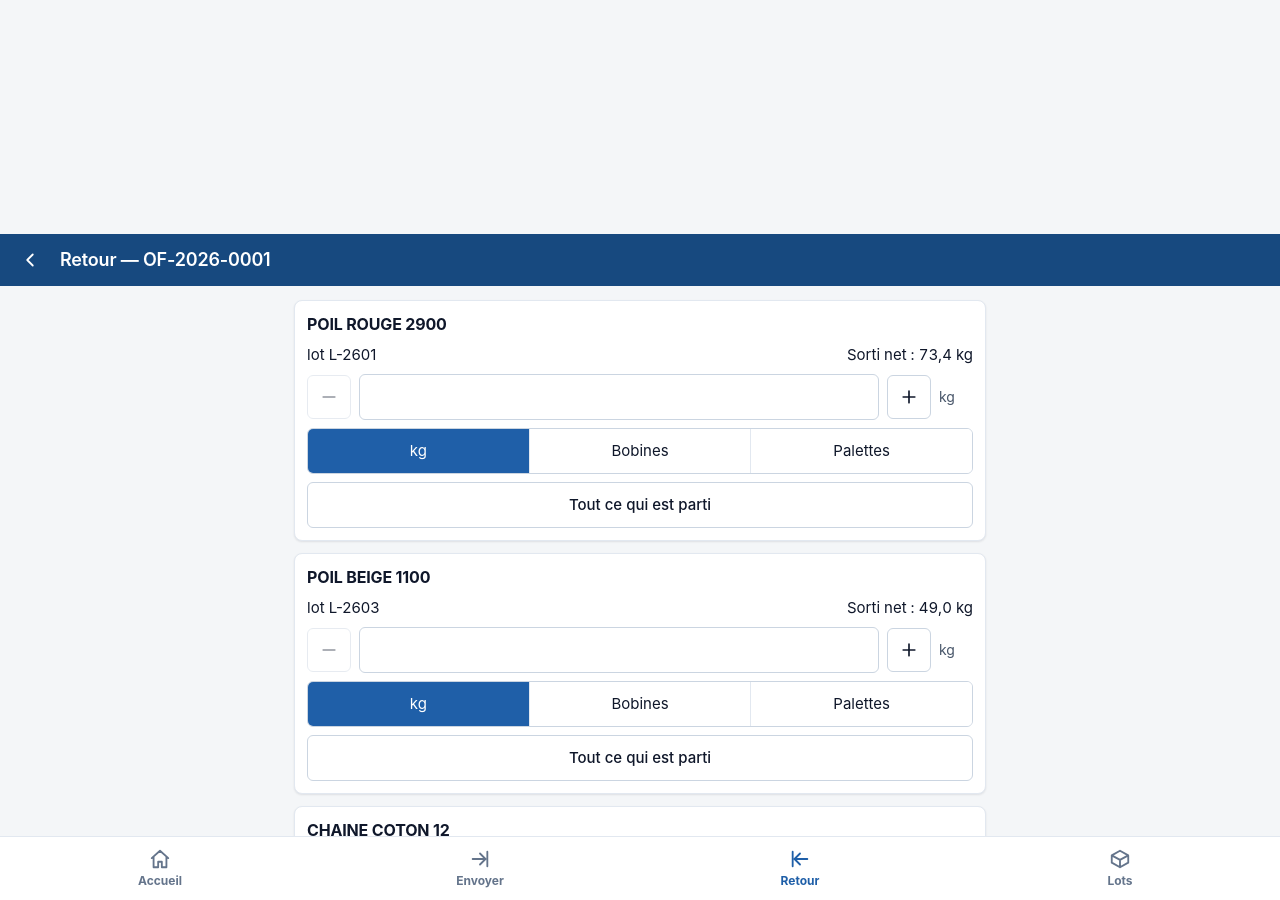
Retour des machines › « Tout ce qui est parti » en bobines arrondit vers le bas ; un seul envoi, validé
The width and height of the screenshot is (1280, 900).
(page scrolled)
Expected: the heading "Retour — OF-2026-0001" is shown, [60,247,270,273]
Expected: the text "Sorti net : 73,4 kg" is shown, [847,344,973,366]
Click the radio button labelled "Bobines" below "lot L-2601".
click(641, 451)  # box [530,429,751,473]
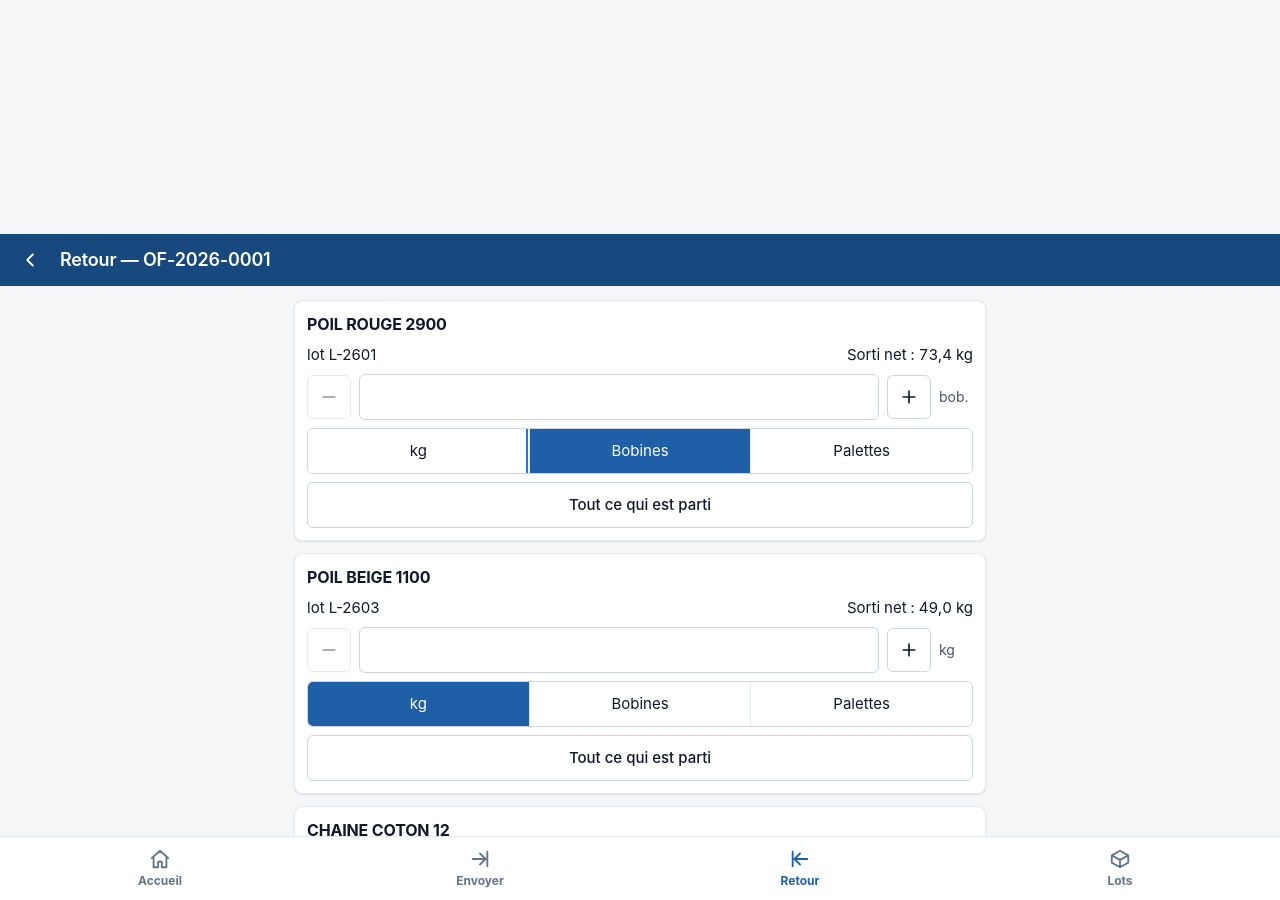
Click the button "Tout ce qui est parti" below "bob.".
click(640, 505)  # box [307,482,973,528]
(page scrolled)
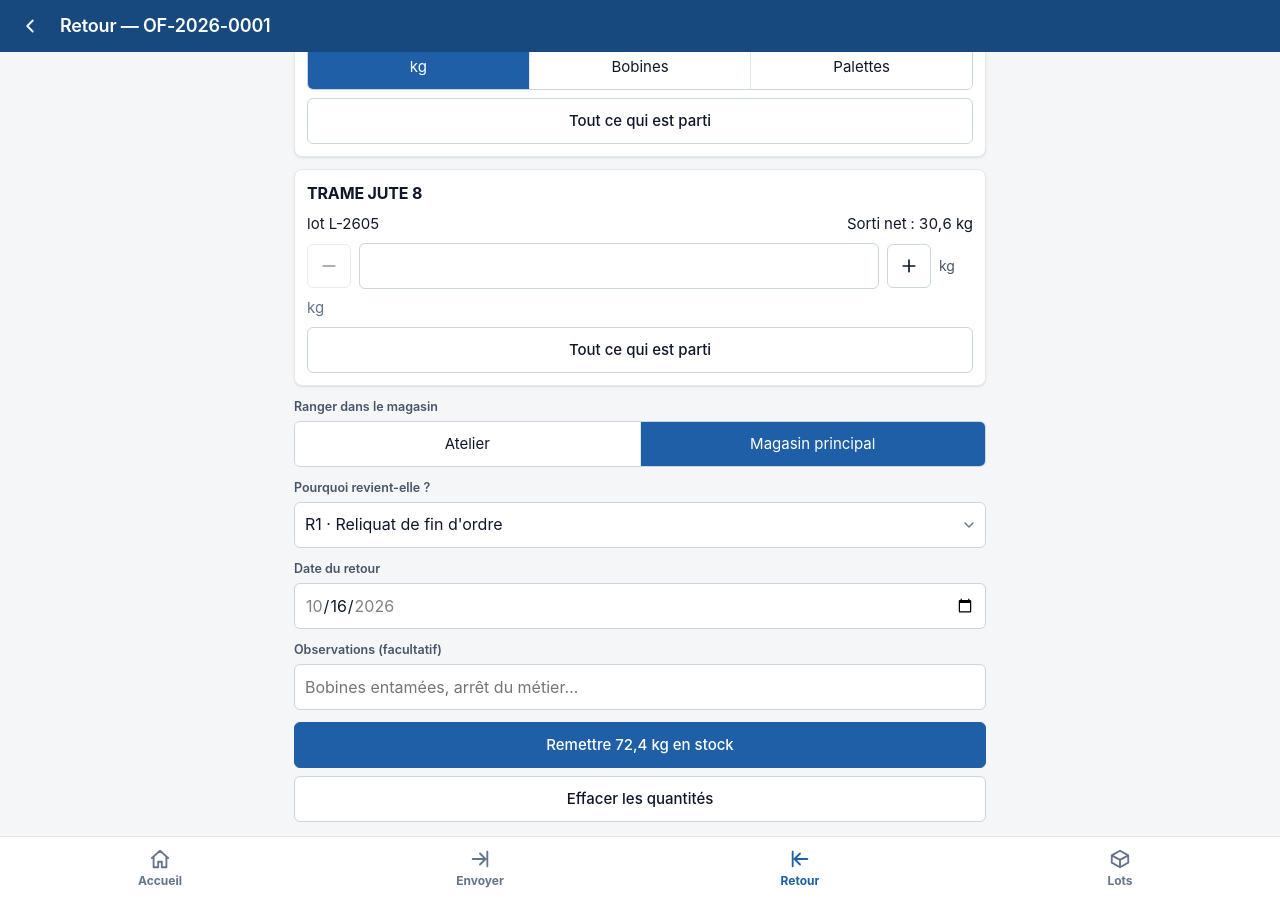
Click the button "Remettre 72,4 kg en stock".
click(640, 745)  # box [294,722,986,768]
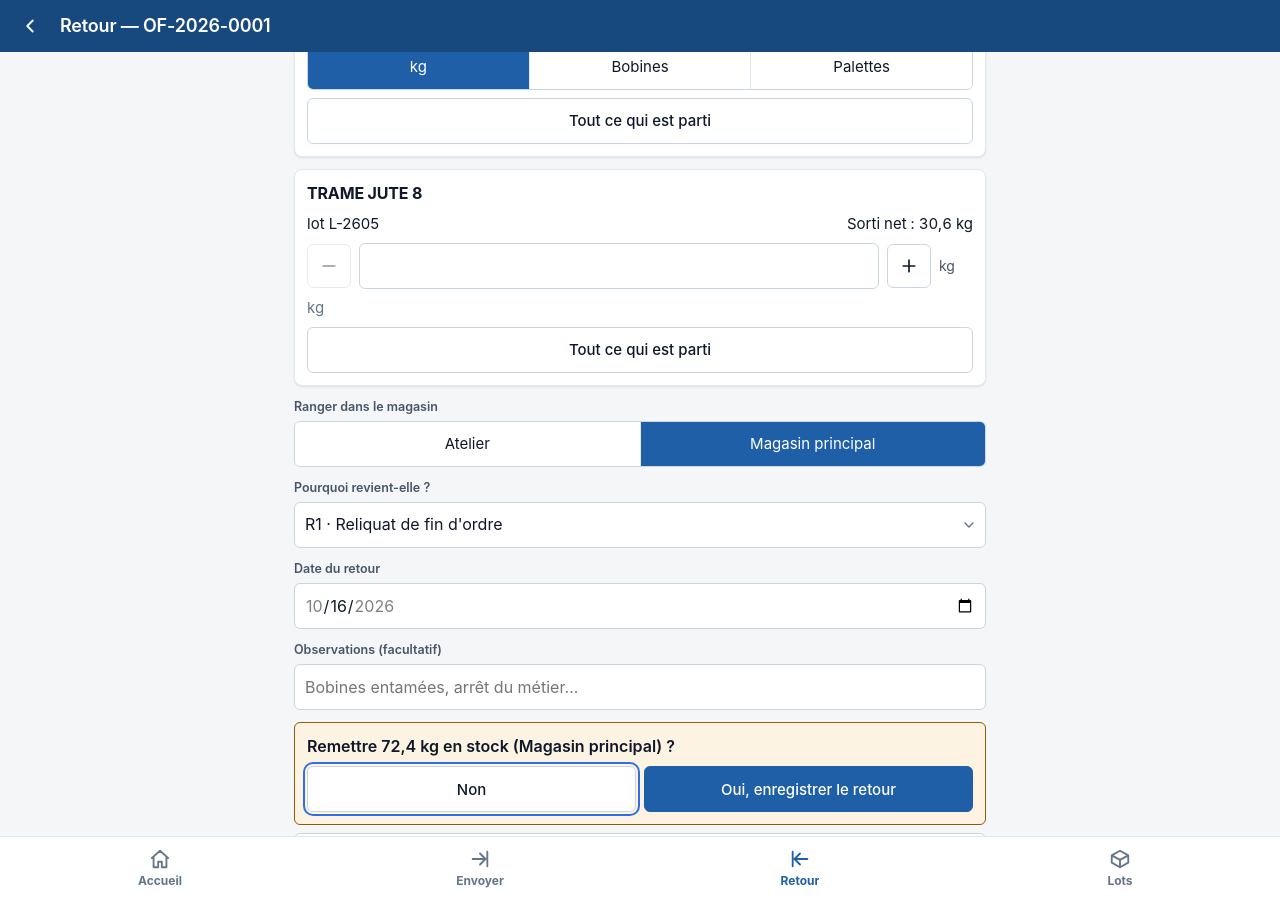
Click the button "Oui, enregistrer le retour".
click(808, 790)  # box [644,766,973,812]
(page scrolled)
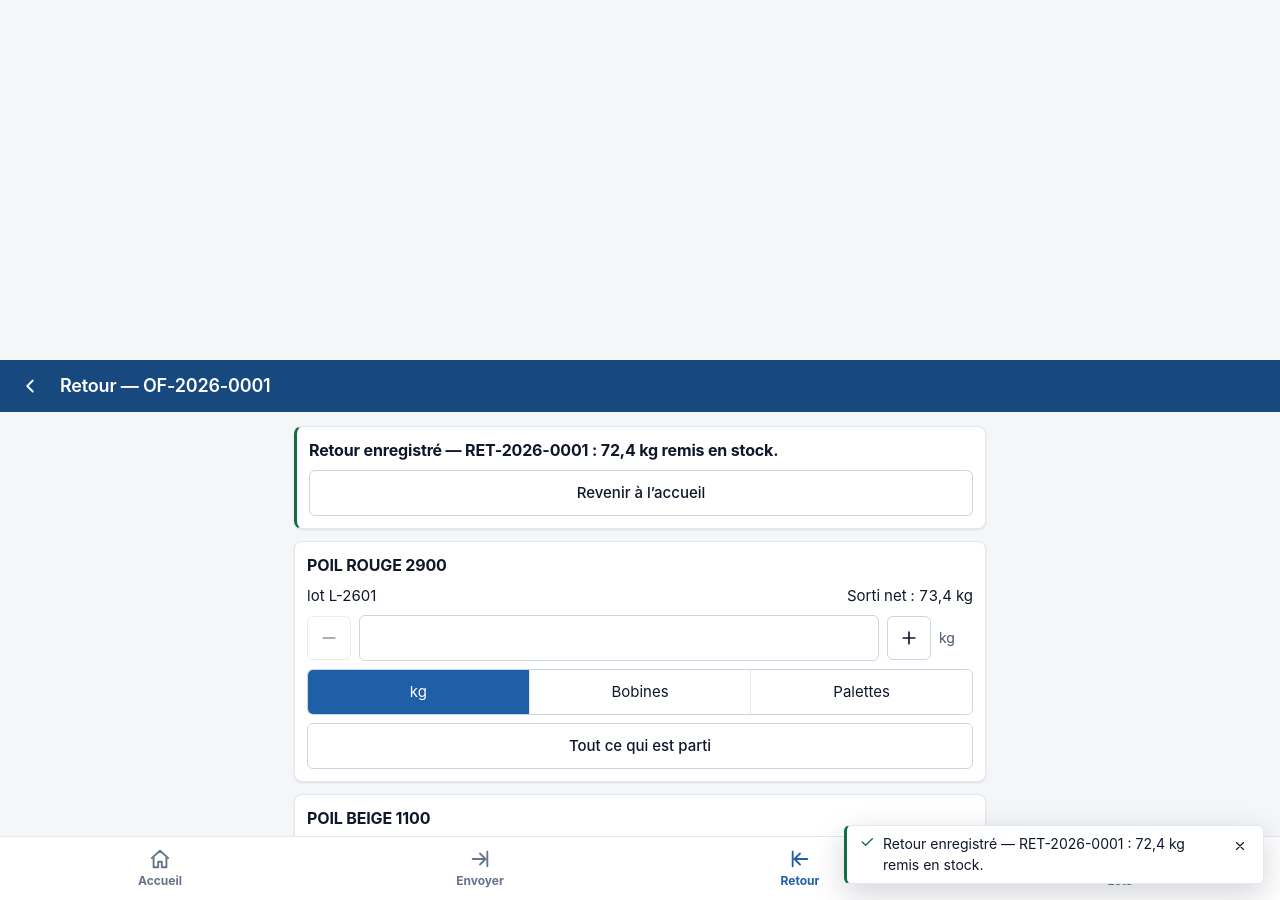
Result: the heading "Retour enregistré — RET-2026-0001 : 72,4 kg remis en stock." is shown at [309,440,778,460]
